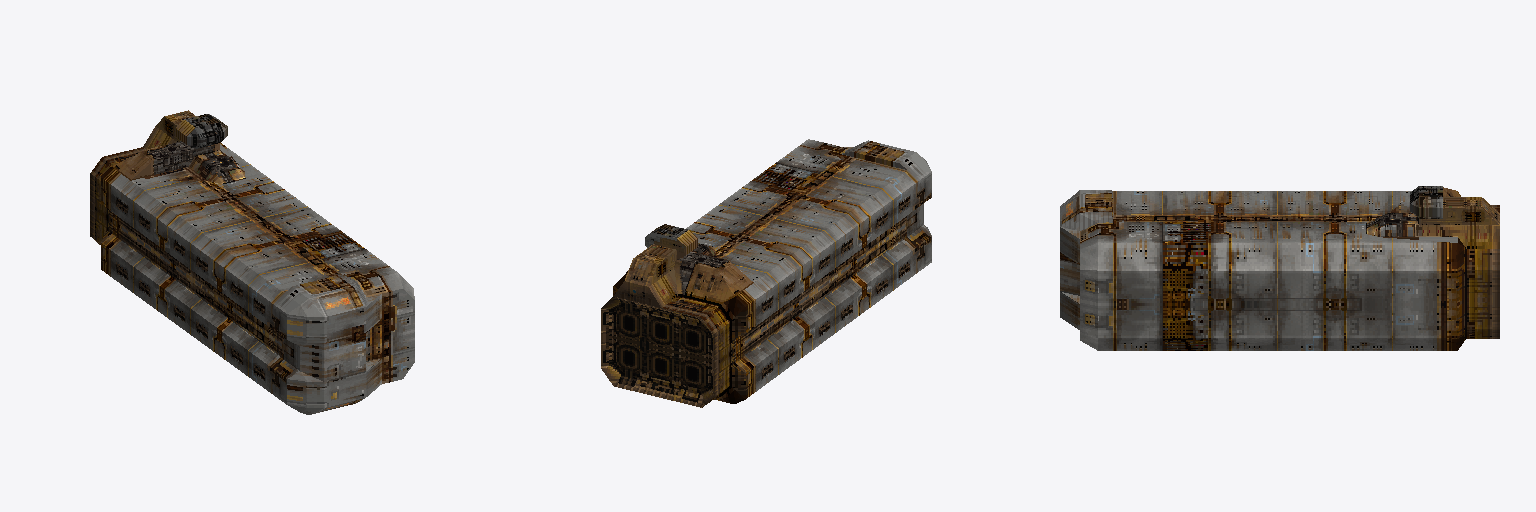
3 renders of one model, left to right at view 1: azimuth 30°, elevation 25°; view 2: azimuth 150°, elevation 25°; view 3: azimuth 270°, elevation 25°, orthographic.
Parts seen in each view (by area): view 1: PrisonShipold; view 2: PrisonShipold; view 3: PrisonShipold.
Part boxes in pixels (x1,y1,x2,y2): PrisonShipold: (90,110,414,414); PrisonShipold: (601,139,931,407); PrisonShipold: (1060,186,1499,350).
Size of the model in its own units: 686 by 737 by 1965.
Materials: 3 (3 with a texture image).